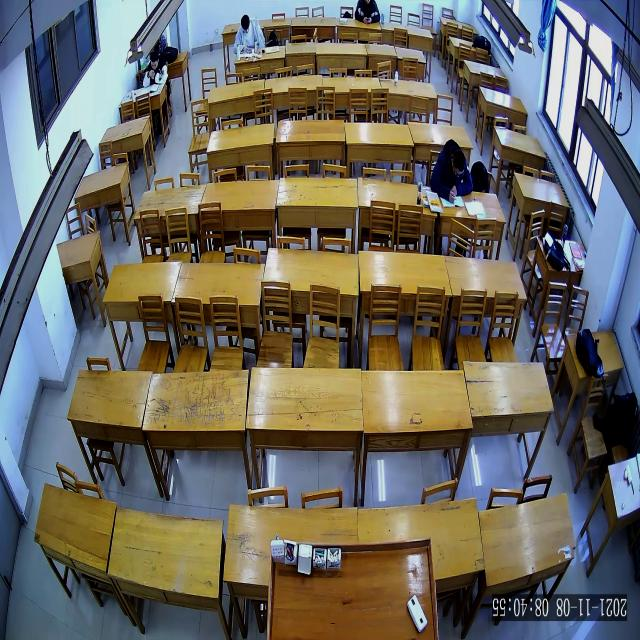bow: (429, 139, 474, 203)
down: (452, 150, 466, 178), (150, 51, 160, 70), (241, 15, 250, 34)
sit: (233, 14, 266, 54), (142, 50, 168, 86)
